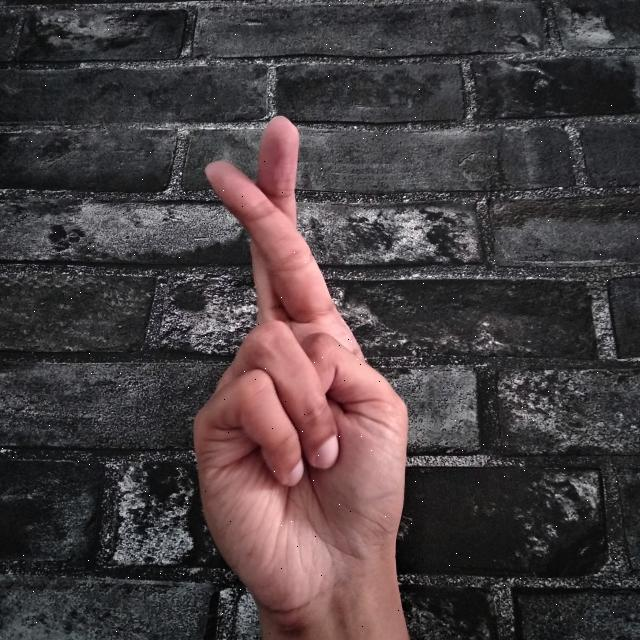R: (178, 110, 414, 640)
